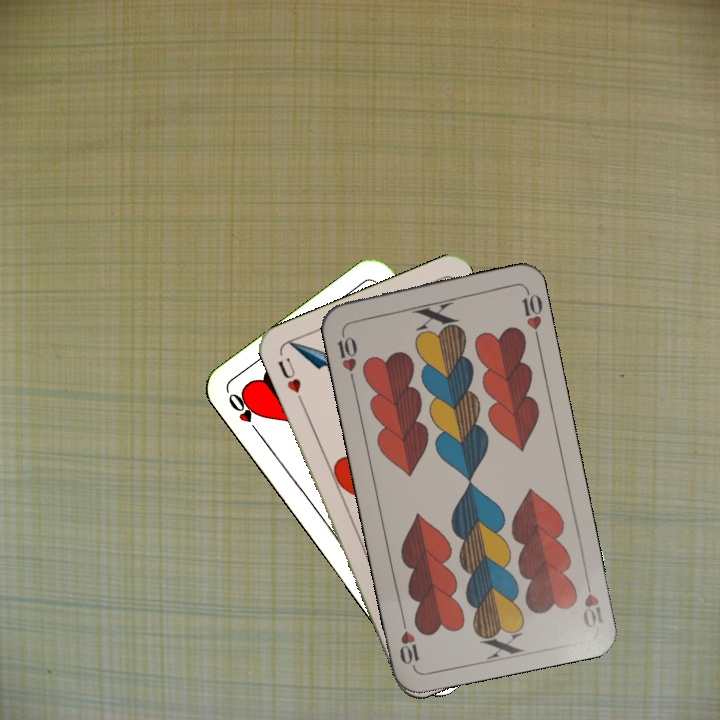H10: (578, 571, 606, 631), (332, 325, 360, 384)
HO: (224, 389, 265, 440)
HU: (274, 353, 307, 406)
